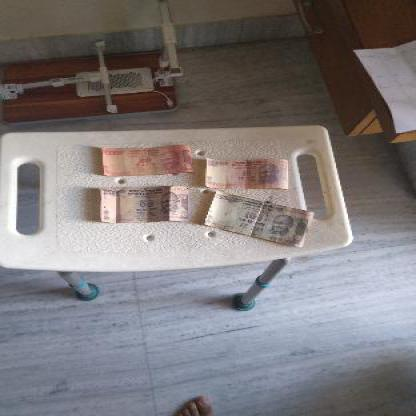Old100Front: (201, 190, 312, 247)
Old10Front: (208, 160, 289, 189)
Old20Front: (100, 147, 192, 177)
Old50Front: (100, 188, 191, 222)
